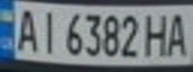2: (118, 10, 142, 58)
3: (81, 10, 106, 57)
6: (60, 8, 84, 56)
8: (100, 10, 124, 58)
A: (9, 5, 42, 53), (163, 8, 193, 57)
H: (142, 9, 172, 58)
I: (33, 7, 60, 55)
